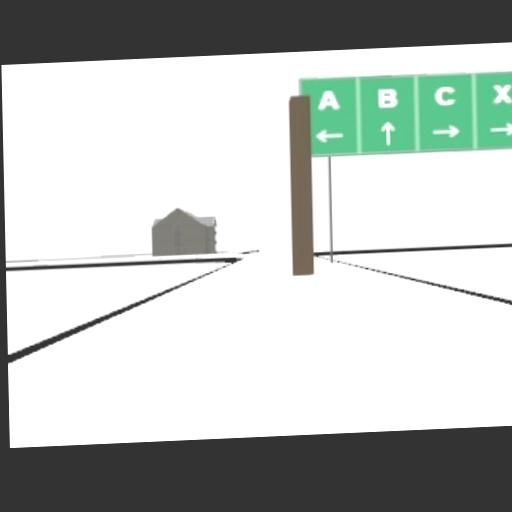A: (317, 86, 342, 110)
B: (377, 85, 398, 107)
C: (434, 83, 457, 106)
Left: (315, 126, 347, 143)
Right: (430, 122, 462, 139), (488, 118, 512, 135)
Straight: (381, 118, 398, 145)
X: (492, 82, 512, 104)
